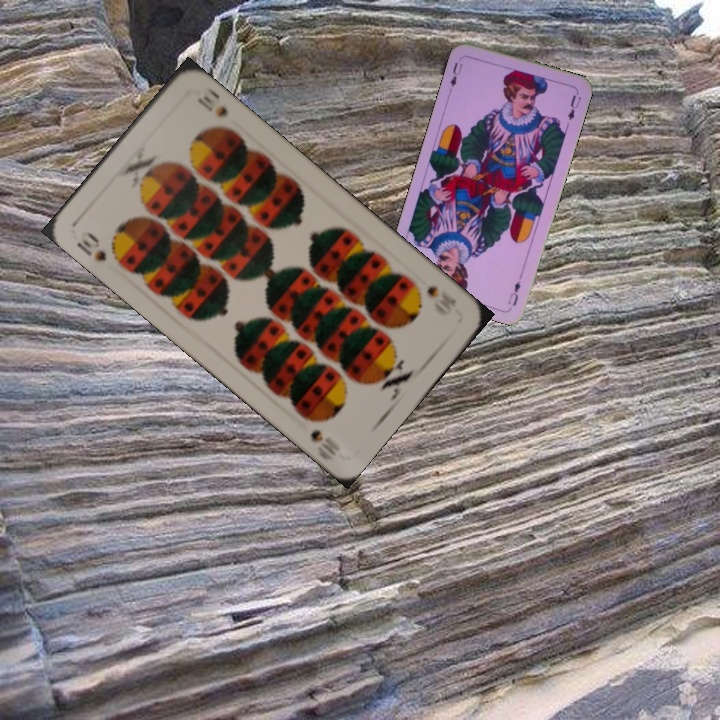EU: (446, 58, 465, 89), (504, 277, 523, 308)
S10: (72, 226, 110, 264), (422, 282, 459, 310)
